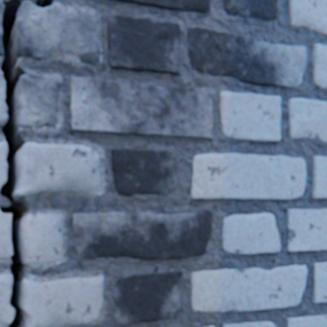brick: (70, 77, 211, 139), (187, 28, 304, 88), (72, 211, 211, 259), (190, 265, 305, 311), (190, 154, 304, 199), (107, 16, 179, 74), (112, 271, 181, 323), (111, 149, 175, 196), (219, 92, 279, 142), (222, 213, 278, 254), (285, 209, 326, 251), (286, 99, 326, 142), (109, 0, 209, 14), (287, 0, 326, 35), (221, 0, 276, 22), (311, 45, 326, 88), (311, 157, 326, 199), (311, 262, 326, 302), (285, 315, 326, 326), (222, 321, 274, 326)
broken_brick: (13, 2, 99, 65), (13, 143, 99, 199), (21, 275, 103, 326), (15, 74, 58, 129), (20, 214, 63, 265), (0, 274, 15, 323), (0, 211, 12, 258), (0, 72, 7, 125), (0, 142, 7, 189), (0, 2, 4, 57)
crack: (0, 0, 26, 326), (34, 0, 53, 9)
